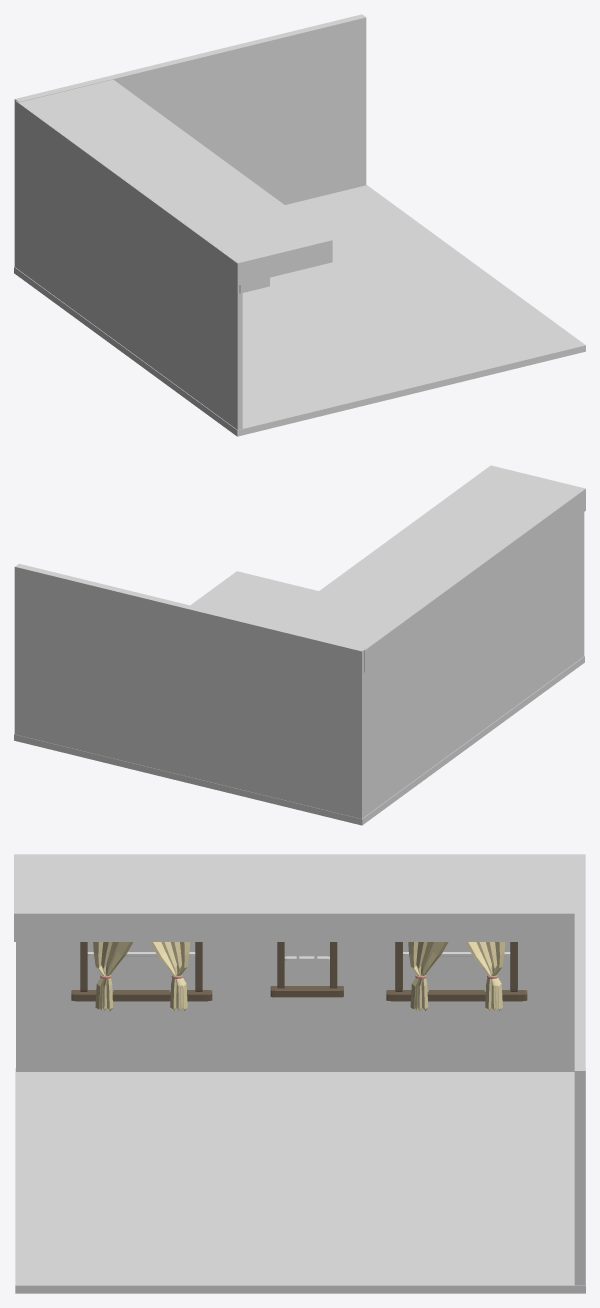
The model's file is BoothOnePillow.fbx.
3 renders of one model, top to bottom at view 1: azimuth 30°, elevation 25°; view 2: azimuth 150°, elevation 25°; view 3: azimuth 270°, elevation 25°, orthographic. The views are drawn at different scales.
Parts seen in each view (by area): view 1: floor, Cube.001, Cube, Cube.004; view 2: Cube, Cube.001, Cube.004, floor; view 3: floor, Cube.001, Cube.004, Cube.007, Cube.002, Cube, Cube.003.
Part boxes in pixels (x1,y1,x2,y2): floor: [14, 185, 585, 436]; Cube.001: [14, 99, 242, 429]; Cube: [15, 14, 366, 204]; Cube.004: [16, 79, 332, 285]; Cube: [14, 563, 365, 818]; Cube.001: [361, 487, 584, 818]; Cube.004: [272, 465, 585, 672]; floor: [14, 571, 584, 825]; floor: [15, 1068, 585, 1293]; Cube.001: [16, 854, 574, 1071]; Cube.004: [14, 854, 574, 941]; Cube.007: [386, 942, 527, 1011]; Cube.002: [71, 942, 212, 1011]; Cube: [574, 854, 585, 1285]; Cube.003: [270, 942, 343, 997].
Bounding box in the file's own units: 5036 × 2402 × 5595.
